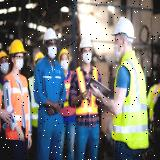Helmet: (110, 17, 137, 44), (10, 40, 27, 56), (43, 28, 58, 42), (79, 38, 92, 50)
Vest: (111, 53, 151, 152), (4, 72, 30, 141), (75, 66, 99, 116)
